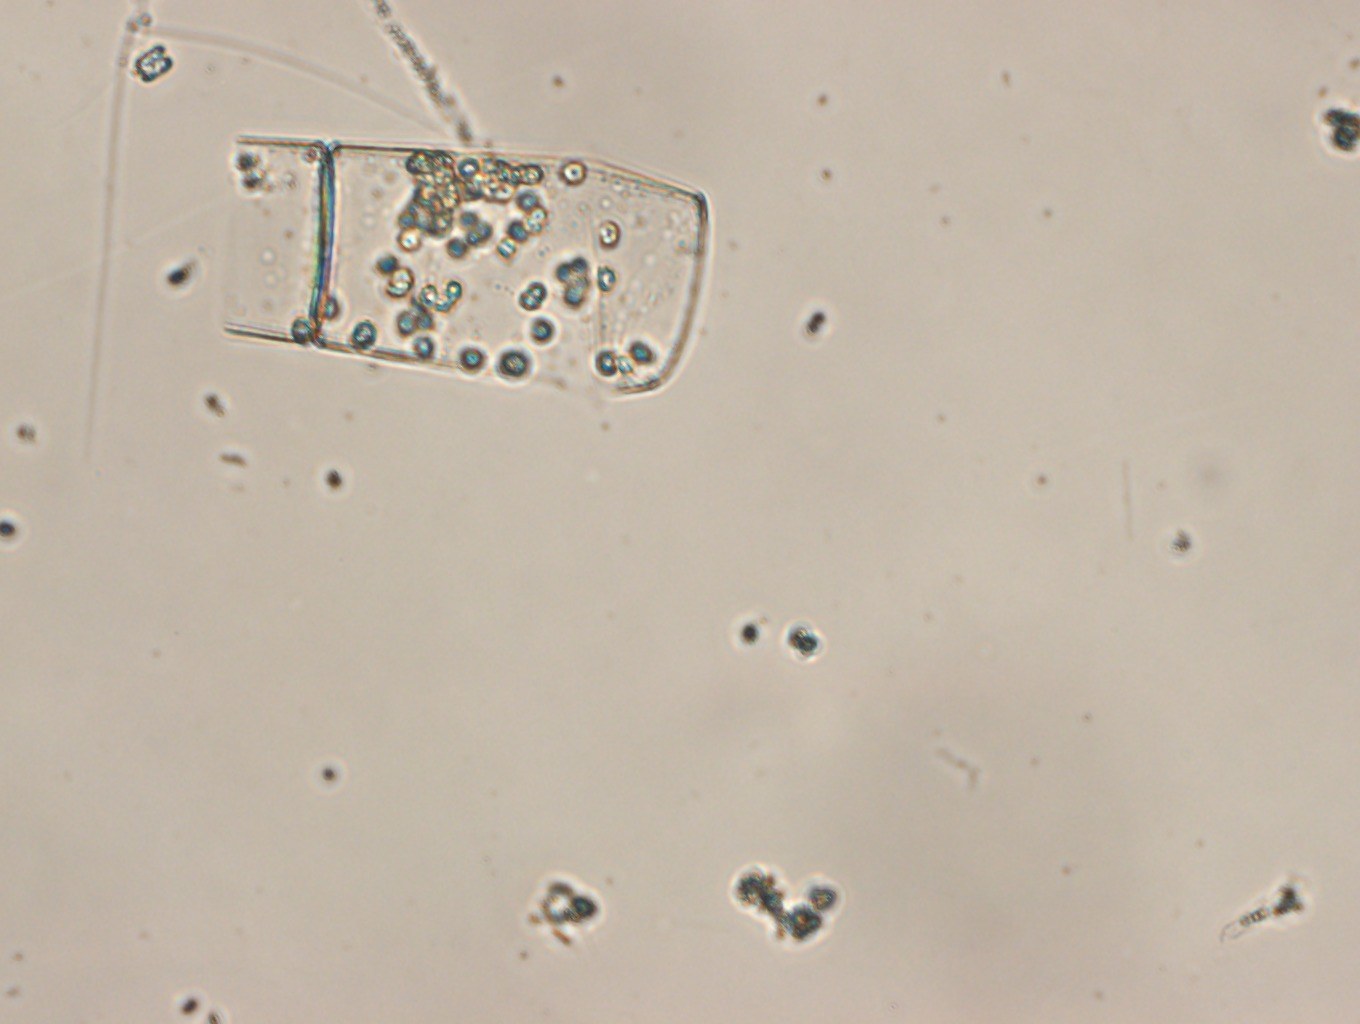guinardia flaccida: (229, 136, 710, 400)
